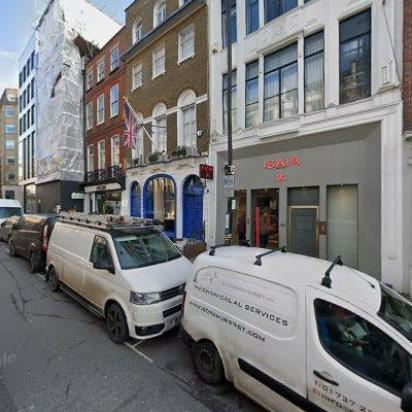stationary-car-onstreet: (0, 216, 20, 242)
stationary-light-truck-onstreet: (178, 240, 412, 410), (44, 212, 194, 346), (8, 214, 58, 274), (0, 199, 24, 227)
